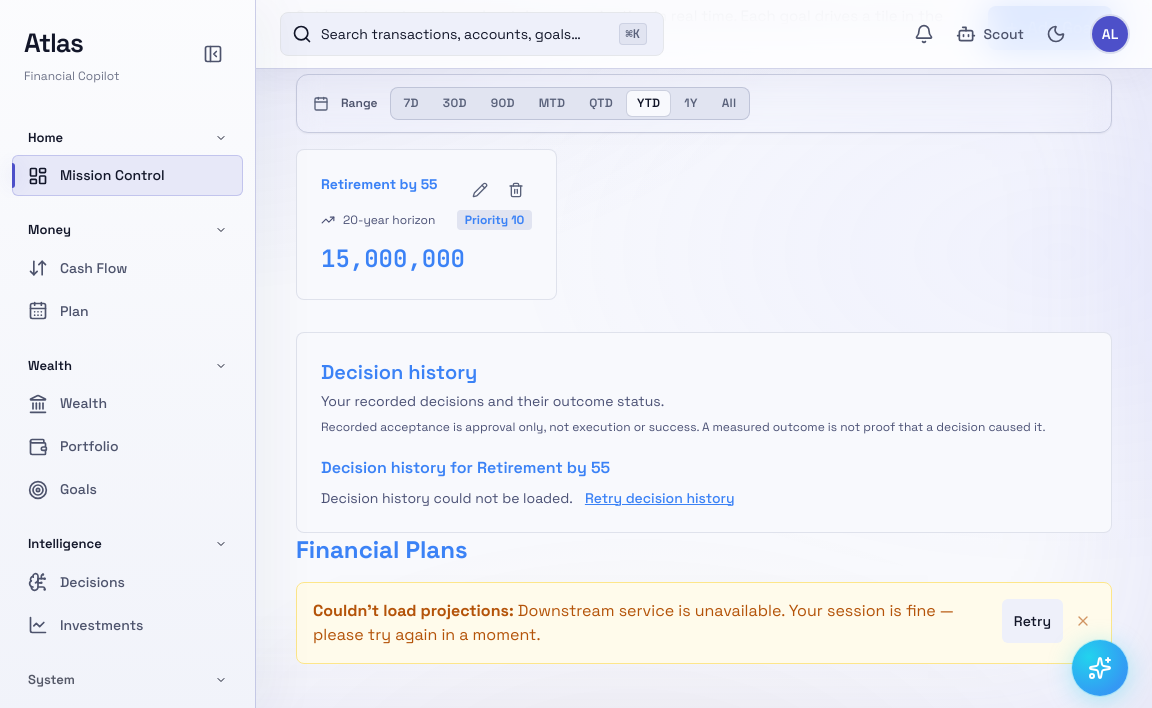
GoalsPage — Phase F2 #2 error isolation › reflects the LATEST error message when retry flips to a new error type
(page scrolled)
Expected: the text "Downstream service is unavailable" is shown, [313,600,954,645]
Click the button "Retry" at (1032, 621), box [1002,599,1063,643]
(page scrolled)
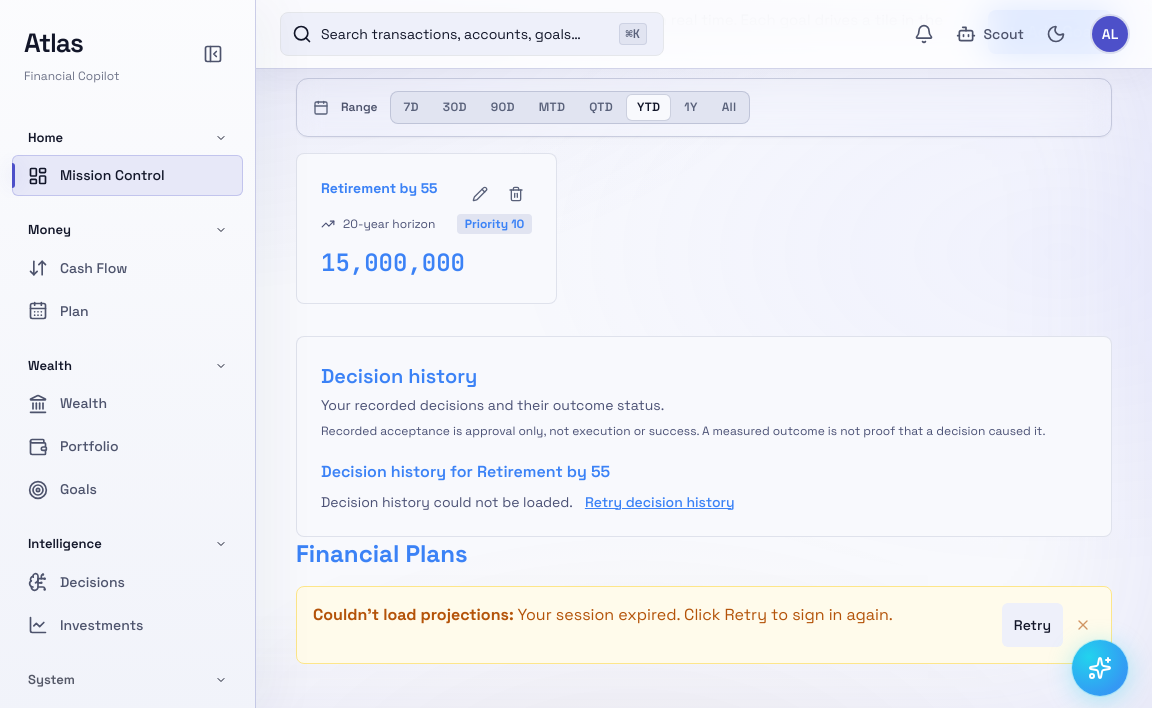
Now the text "Your session expired" is shown, box [518,604,893,625]
Now the text "Downstream service is unavailable" is gone
